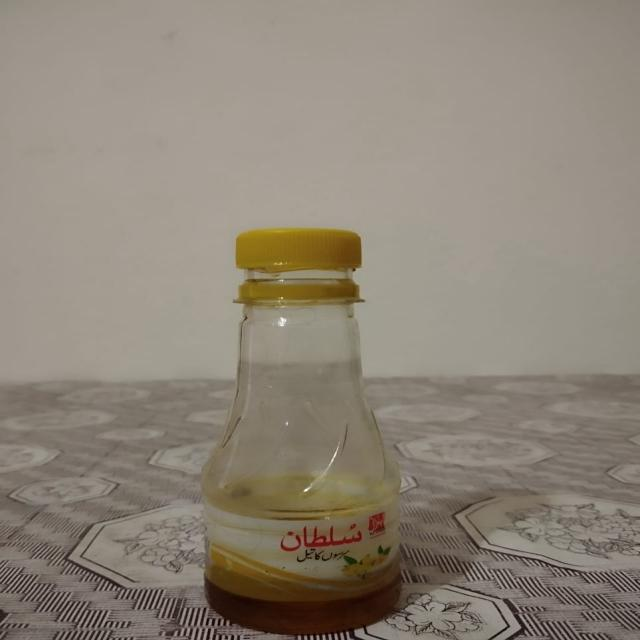bottle: (183, 215, 417, 640)
cap: (220, 218, 369, 315)
label: (193, 483, 402, 611)
